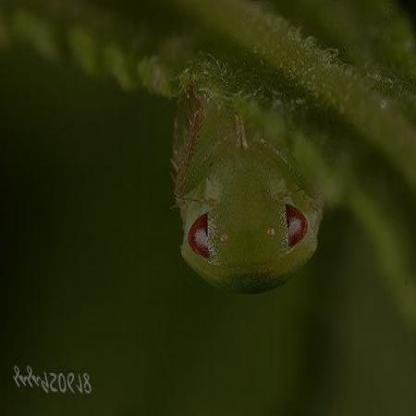green-leafhopper: (168, 96, 335, 290)
